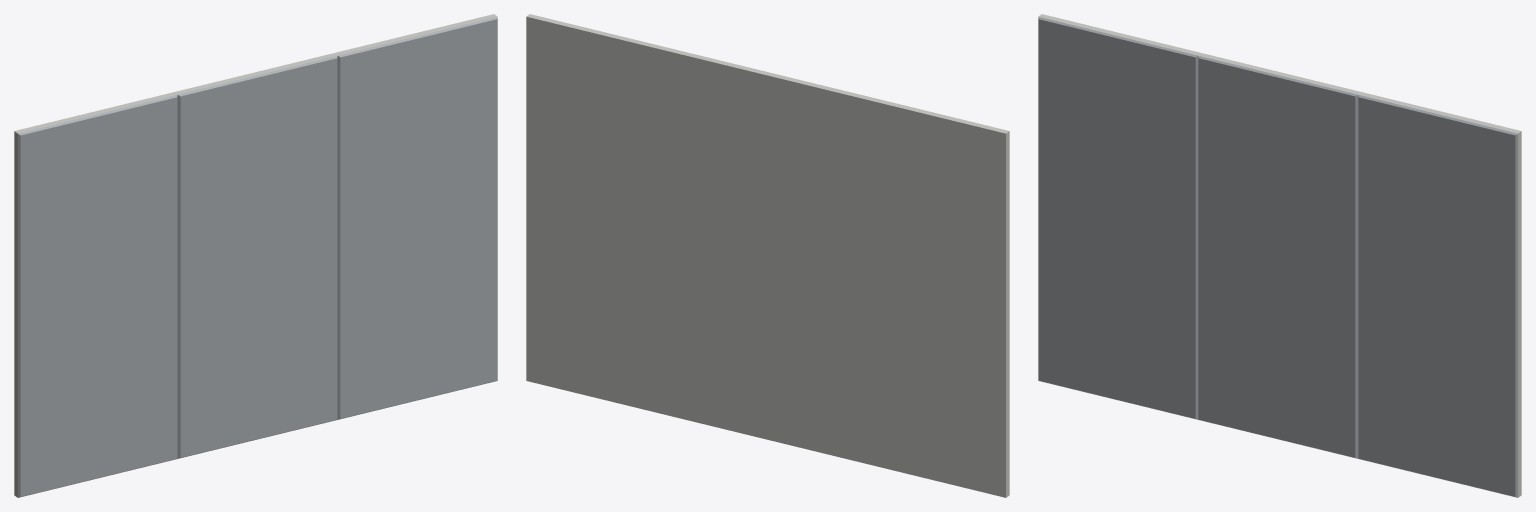
The model's file is Bathroom_Mirror.FBX.
The picture shows the model from 3 angles, left to right: view 1: azimuth 30°, elevation 25°; view 2: azimuth 150°, elevation 25°; view 3: azimuth 330°, elevation 25°; orthographic projection.
Visible parts, largest first — view 1: Bathroom_Mirror; view 2: Bathroom_Mirror; view 3: Bathroom_Mirror.
Part boxes in pixels (left/top/right/bottom): Bathroom_Mirror: left=14, top=14, right=497, bottom=497; Bathroom_Mirror: left=526, top=14, right=1009, bottom=497; Bathroom_Mirror: left=1038, top=14, right=1521, bottom=497.
Bounding box in the file's own units: 250 × 181 × 4.2.
